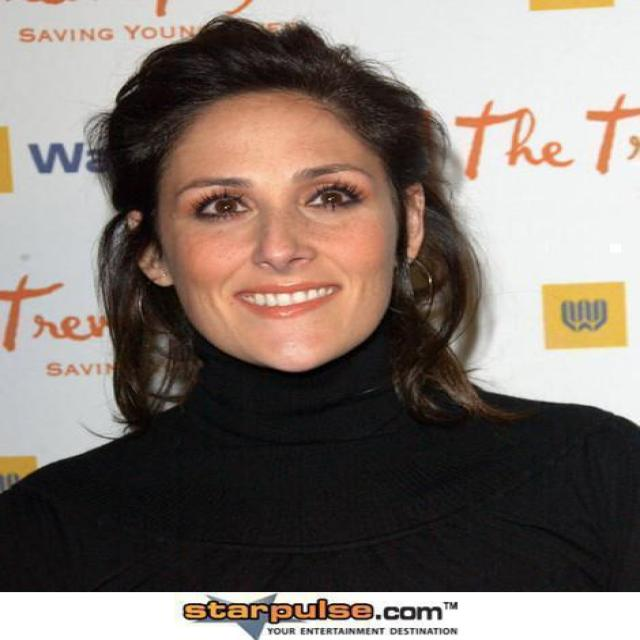0_rostro_limpio: (134, 82, 423, 381)
